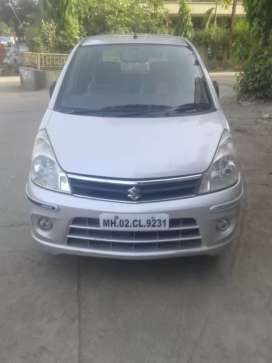license_plate: (98, 212, 169, 231)
